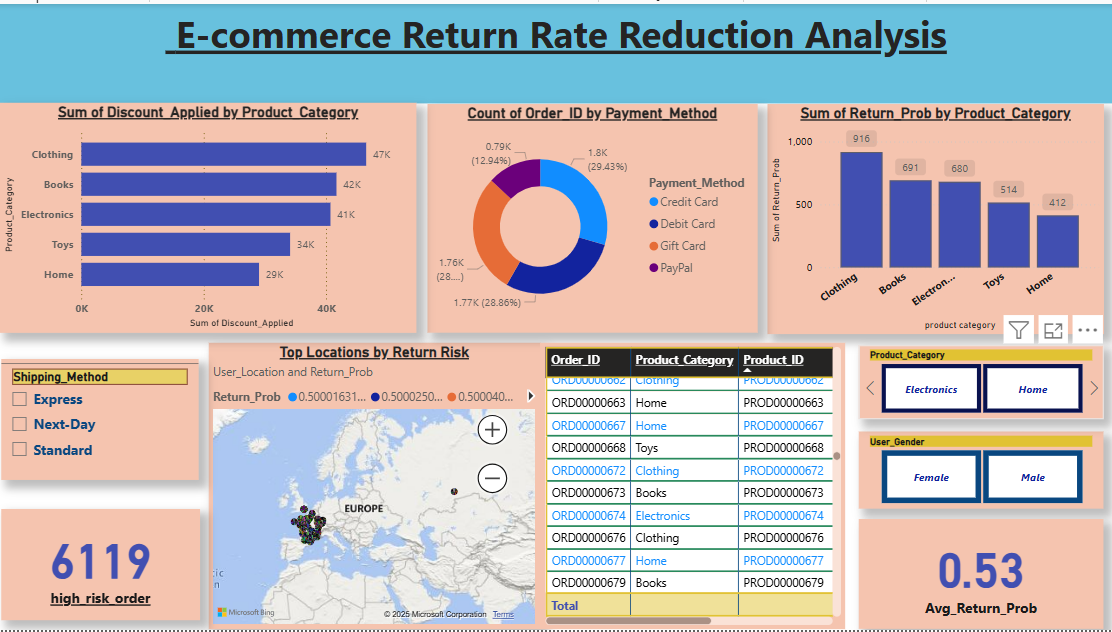

What the dashboard file says about the page in this screenshot:
{"tool":"powerbi","page":{"name":"Page 1","canvas":[1280,720],"ordinal":0},"visuals":[{"type":"columnChart","fields":{"Y":["Sum(high_risk_products.Return_Prob)"],"Category":["high_risk_products.Product_Category"]},"box":[883.3,115.1,387,265],"z":0},{"type":"textbox","box":[0,0,1280,114.3],"z":1000},{"type":"map","title":"Top Locations by Return Risk","fields":{"Category":["high_risk_products.User_Location"],"Series":["high_risk_products.Return_Prob"]},"box":[240.2,389.8,381.2,329.4],"z":2000},{"type":"donutChart","fields":{"Category":["high_risk_products.Payment_Method"],"Y":["CountNonNull(high_risk_products.Order_ID)"]},"box":[492,115.1,379.8,263.3],"z":3000},{"type":"slicer","fields":{"Values":["high_risk_products.User_Gender"]},"box":[988.3,492,282,89.2],"z":4000},{"type":"slicer","fields":{"Values":["high_risk_products.Product_Category"]},"box":[988.3,392.7,282,84.9],"z":5000},{"type":"slicer","fields":{"Values":["high_risk_products.Shipping_Method"]},"box":[1.4,408.5,227.3,139.5],"z":6000},{"type":"tableEx","fields":{"Values":["high_risk_products.Order_ID","high_risk_products.Product_Category","high_risk_products.Product_ID","Sum(high_risk_products.Return_Prob)","high_risk_products.User_Location"]},"box":[621.4,389.8,351,329.4],"z":7000},{"type":"card","fields":{"Values":["high_risk_products.high_risk_order"]},"box":[1.4,581.2,228.7,128],"z":8000},{"type":"card","fields":{"Values":["high_risk_products.Avg_Return_Prob"]},"box":[988.3,592.7,282,126.6],"z":9000},{"type":"barChart","fields":{"Y":["Sum(high_risk_products.Discount_Applied)"],"Category":["high_risk_products.Product_Category"]},"box":[0,113.6,479,264.7],"z":9001}]}

Visuals, with their boxes in screenshot pixels (x1, y1, x2, y2), scaled from the page's 1280x720 canvas onto the 1112x632 screenshot:
columnChart - Sum(high_risk_products.Return_Prob) x high_risk_products.Product_Category: {"left": 767, "top": 101, "right": 1104, "bottom": 334}
textbox: {"left": 0, "top": 0, "right": 1111, "bottom": 100}
"Top Locations by Return Risk" map: {"left": 209, "top": 342, "right": 540, "bottom": 631}
donutChart - high_risk_products.Payment_Method x CountNonNull(high_risk_products.Order_ID): {"left": 427, "top": 101, "right": 757, "bottom": 332}
slicer - high_risk_products.User_Gender: {"left": 859, "top": 432, "right": 1104, "bottom": 510}
slicer - high_risk_products.Product_Category: {"left": 859, "top": 345, "right": 1104, "bottom": 419}
slicer - high_risk_products.Shipping_Method: {"left": 1, "top": 359, "right": 199, "bottom": 481}
tableEx - high_risk_products.Order_ID x high_risk_products.Product_Category: {"left": 540, "top": 342, "right": 845, "bottom": 631}
card - high_risk_products.high_risk_order: {"left": 1, "top": 510, "right": 200, "bottom": 623}
card - high_risk_products.Avg_Return_Prob: {"left": 859, "top": 520, "right": 1104, "bottom": 631}
barChart - Sum(high_risk_products.Discount_Applied) x high_risk_products.Product_Category: {"left": 0, "top": 100, "right": 416, "bottom": 332}
